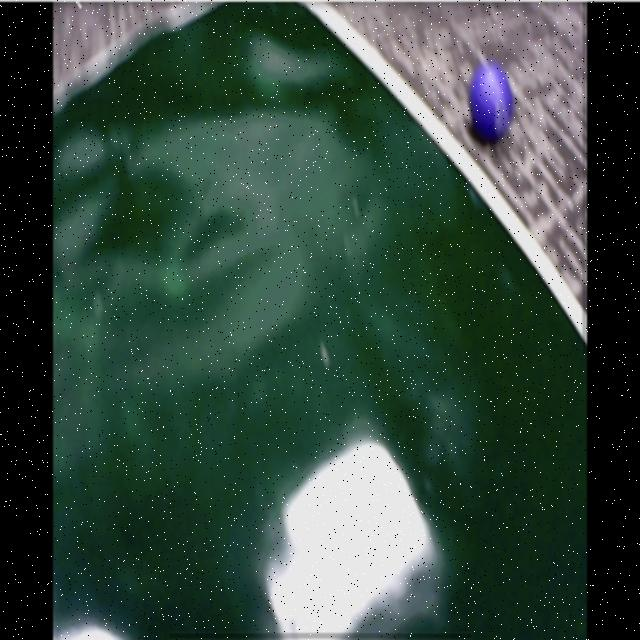ball: (470, 69, 515, 138)
